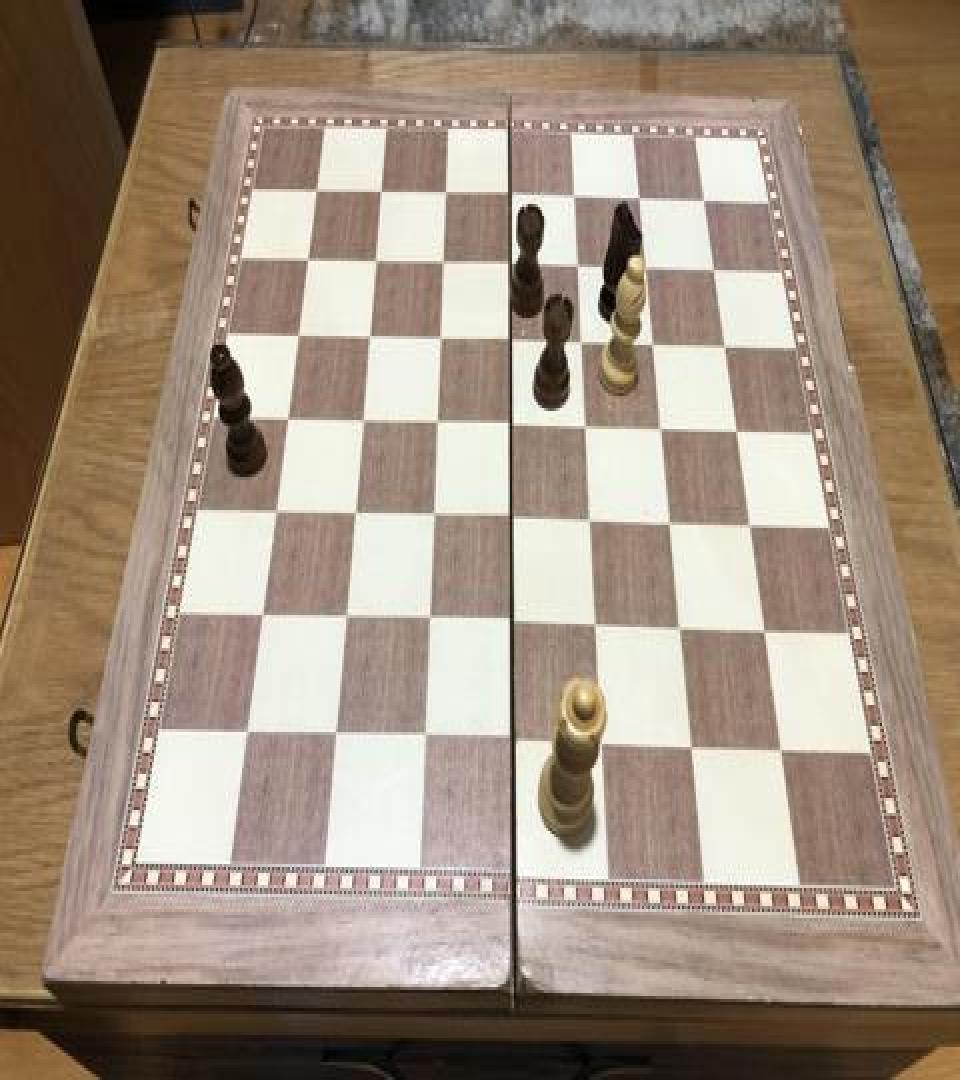xcorner: (754, 610, 778, 647), (419, 601, 443, 638), (682, 727, 706, 764), (325, 718, 349, 755), (690, 182, 714, 218), (626, 180, 650, 216), (562, 178, 586, 214), (499, 178, 523, 214), (435, 177, 459, 213), (371, 176, 395, 212), (308, 174, 332, 210), (701, 250, 725, 286), (633, 249, 657, 285), (566, 248, 590, 284), (499, 246, 523, 282), (432, 244, 456, 280), (365, 243, 389, 279), (299, 242, 323, 278), (712, 326, 736, 362), (641, 324, 665, 360), (570, 322, 594, 358), (500, 321, 524, 357), (429, 320, 453, 356), (359, 318, 383, 354), (289, 318, 313, 354), (724, 411, 748, 447), (649, 408, 673, 444), (575, 406, 599, 442), (500, 405, 524, 441), (426, 404, 450, 440), (352, 402, 376, 438), (278, 400, 302, 436), (738, 504, 762, 540), (659, 502, 683, 538), (580, 501, 604, 537), (501, 500, 525, 536), (423, 496, 447, 532), (344, 495, 368, 531), (266, 494, 290, 530), (669, 609, 693, 645), (586, 606, 610, 642), (502, 604, 526, 640), (335, 600, 359, 636), (252, 598, 276, 634), (771, 730, 795, 766), (592, 726, 616, 762), (503, 723, 527, 759), (414, 722, 438, 758), (237, 717, 261, 753)
